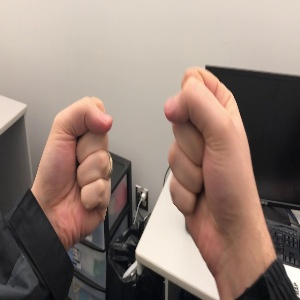hand: (164, 66, 267, 245), (36, 95, 113, 232)
